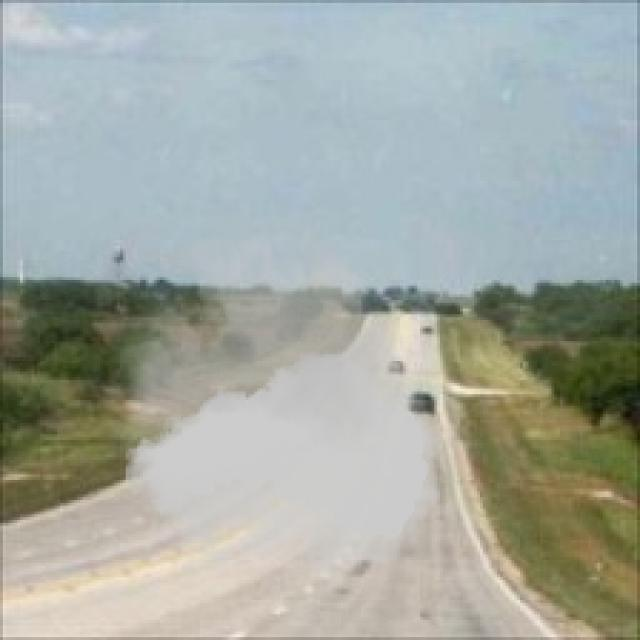Smoke: (102, 214, 452, 603)
